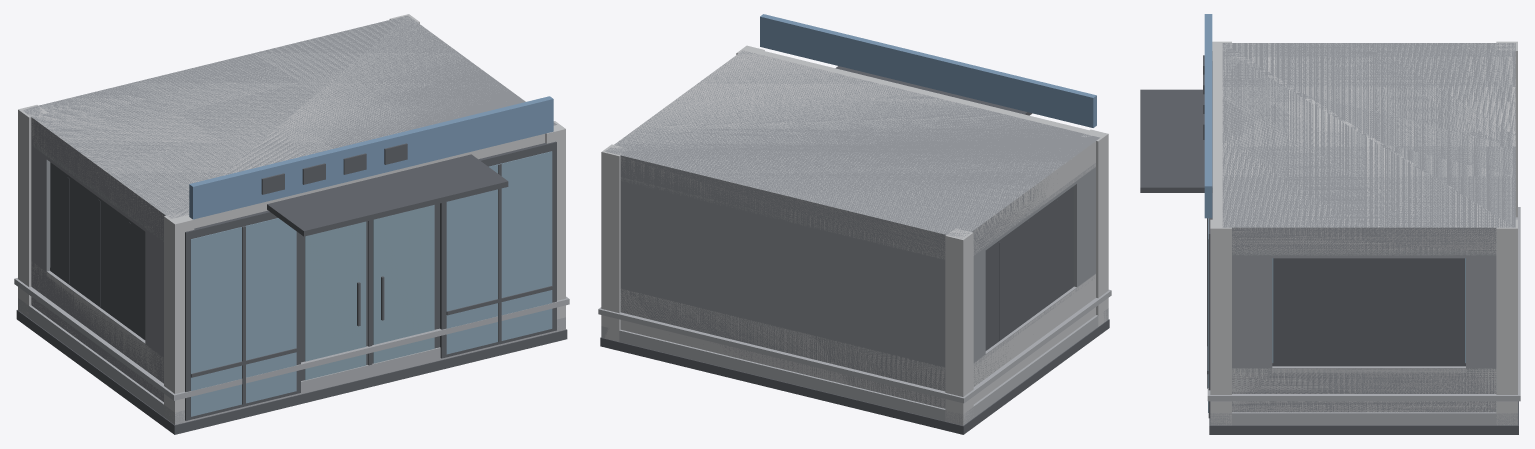
Rendered from neighbor_building.glb.
3 views of the same model, side by side, from view 1: azimuth 30°, elevation 25°; view 2: azimuth 150°, elevation 25°; view 3: azimuth 270°, elevation 25° (orthographic). The views are drawn at different scales.
Parts seen in each view (by area): view 1: bd_base_wall, bd_base_glass, bd_mid_wall, bd_base_frame, bd_base_sign, bd_base_span, bd_mid_span, bd_top_span; view 2: bd_base_wall, bd_mid_wall, bd_base_sign, bd_mid_span, bd_base_frame, bd_top_wall, bd_top_span, bd_base_span; view 3: bd_base_wall, bd_mid_wall, bd_base_frame, bd_mid_span, bd_base_span, bd_top_span, bd_base_sign, bd_top_wall.
Part boxes in pixels (x1,y1,x2,y2): bd_base_wall: (16, 15, 567, 434); bd_base_glass: (190, 151, 552, 416); bd_mid_wall: (18, 14, 565, 424); bd_base_frame: (50, 141, 556, 420); bd_base_sign: (189, 96, 553, 219); bd_base_span: (267, 154, 508, 236); bd_mid_span: (18, 142, 565, 424); bd_top_span: (14, 278, 569, 400); bd_base_wall: (600, 50, 1109, 434); bd_mid_wall: (601, 45, 1108, 425); bd_base_sign: (760, 14, 1096, 127); bd_mid_span: (601, 163, 1108, 425); bd_base_frame: (985, 186, 1073, 350); bd_top_wall: (620, 307, 1095, 408); bd_top_span: (598, 289, 1111, 403); bd_base_span: (835, 66, 1032, 115); bd_base_wall: (1209, 43, 1518, 434); bd_mid_wall: (1210, 41, 1517, 425); bd_base_frame: (1203, 55, 1464, 418); bd_mid_span: (1210, 250, 1517, 425); bd_base_span: (1140, 89, 1212, 192); bd_top_span: (1207, 207, 1520, 401); bd_base_sign: (1204, 14, 1212, 218); bd_top_wall: (1232, 401, 1496, 412).
Size of the model in its own units: 5.32 by 3.16 by 4.52.
